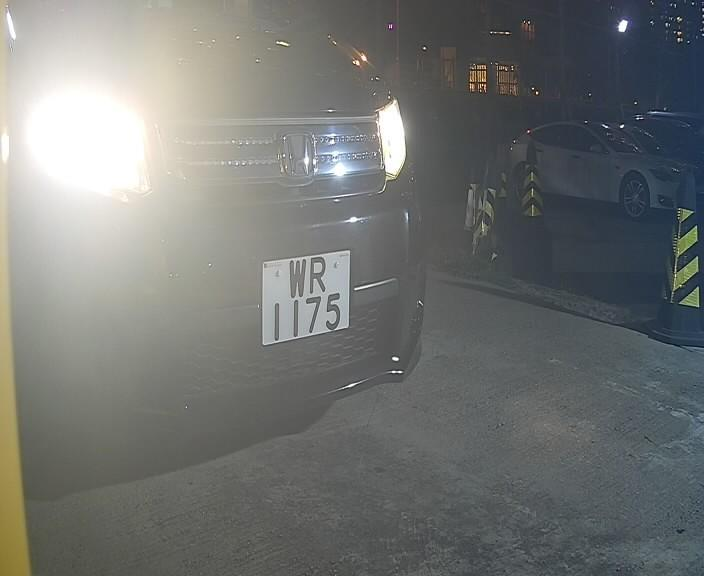License Plate: (252, 232, 356, 355)
